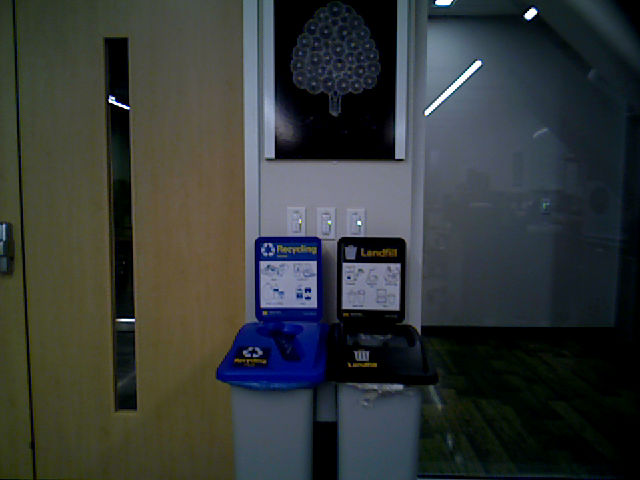painting1: (254, 1, 405, 159)
